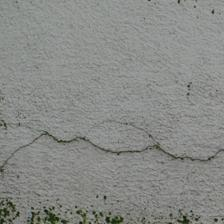Crack: (2, 60, 222, 111)
